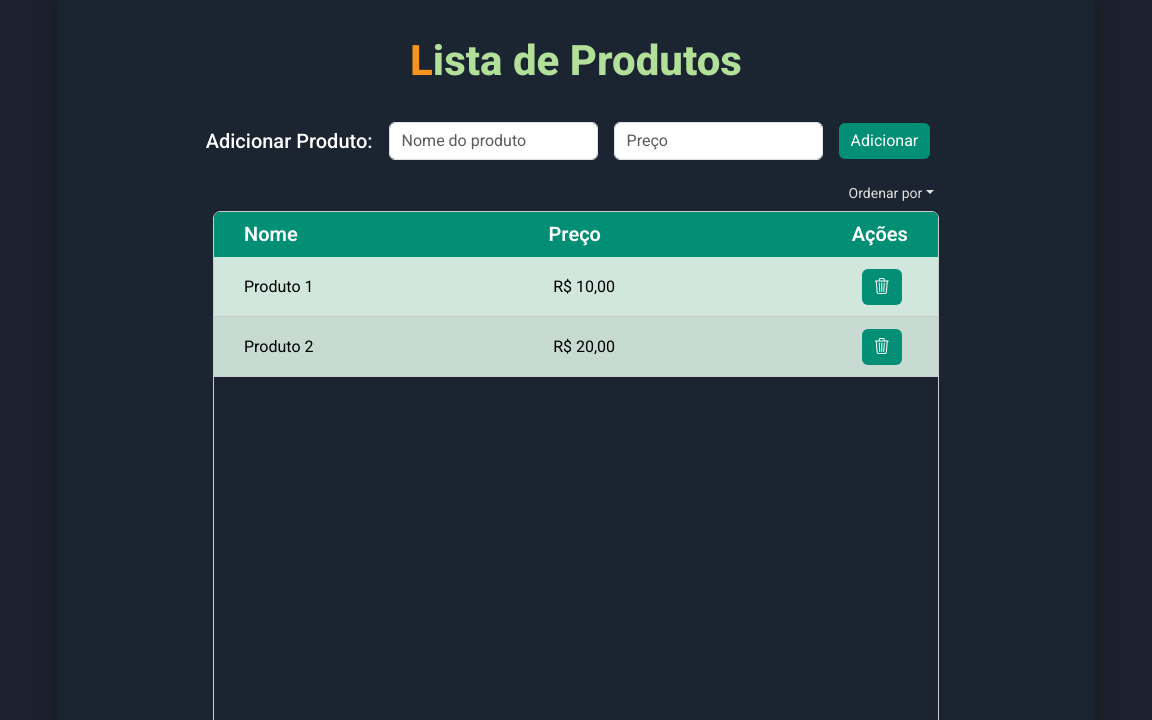
Test: TabelaProdutos › Deve exibir uma mensagem de erro se os campos estiverem vazios ao adicionar um produto
Click the button "Adicionar": (884, 141) [839,123,930,159]
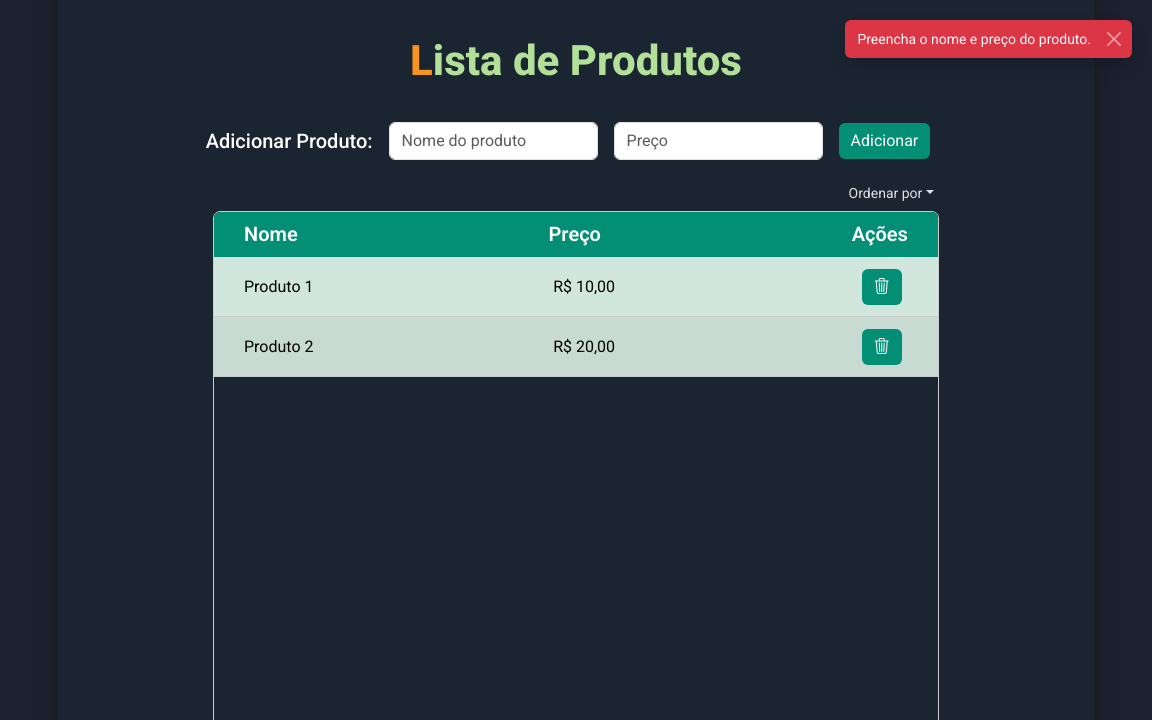
Expected: the text "Preencha o nome e preço do produto." is shown, [857,31,1091,47]
